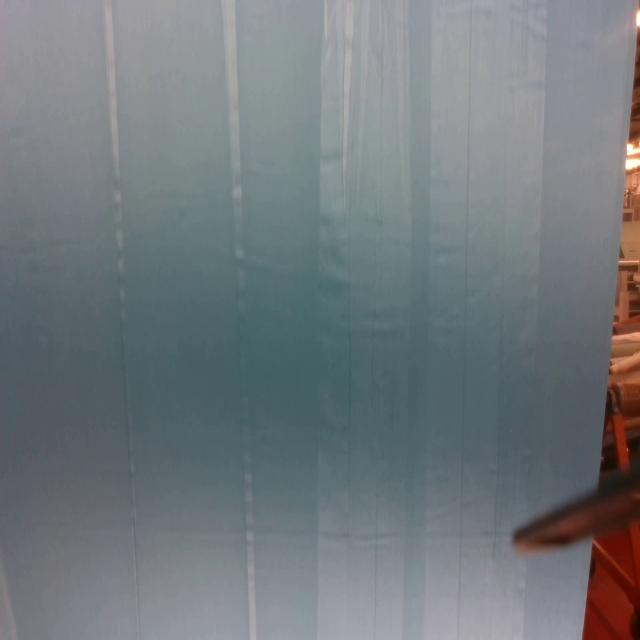crease: (104, 0, 140, 640), (222, 1, 258, 639), (456, 0, 475, 639), (346, 218, 356, 479), (340, 31, 350, 218), (372, 450, 380, 638)
